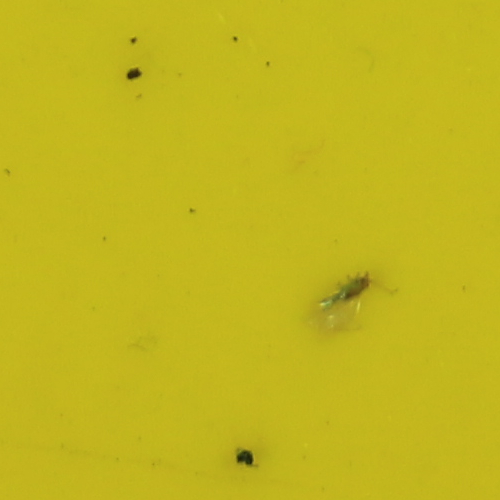Glycaspis: (329, 274, 373, 306)
